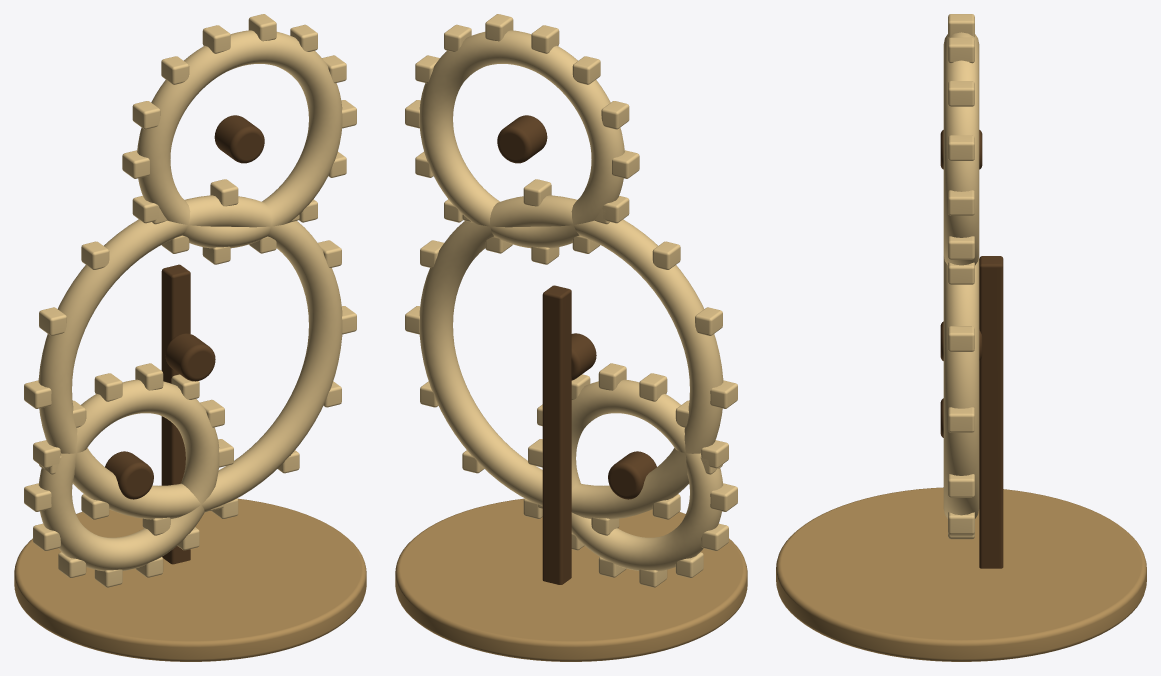
Rendered from theme_02.glb.
3 renders of one model, left to right at view 1: azimuth 30°, elevation 25°; view 2: azimuth 150°, elevation 25°; view 3: azimuth 270°, elevation 25°, orthographic. The views are drawn at different scales.
Parts seen in each view (by area): view 1: theme_02; view 2: theme_02; view 3: theme_02.
Part boxes in pixels (x1,y1,x2,y2): theme_02: (14, 14, 366, 661); theme_02: (395, 14, 747, 661); theme_02: (776, 14, 1146, 661).
Bounding box in the file's own units: 1.31 × 2.14 × 1.24.
